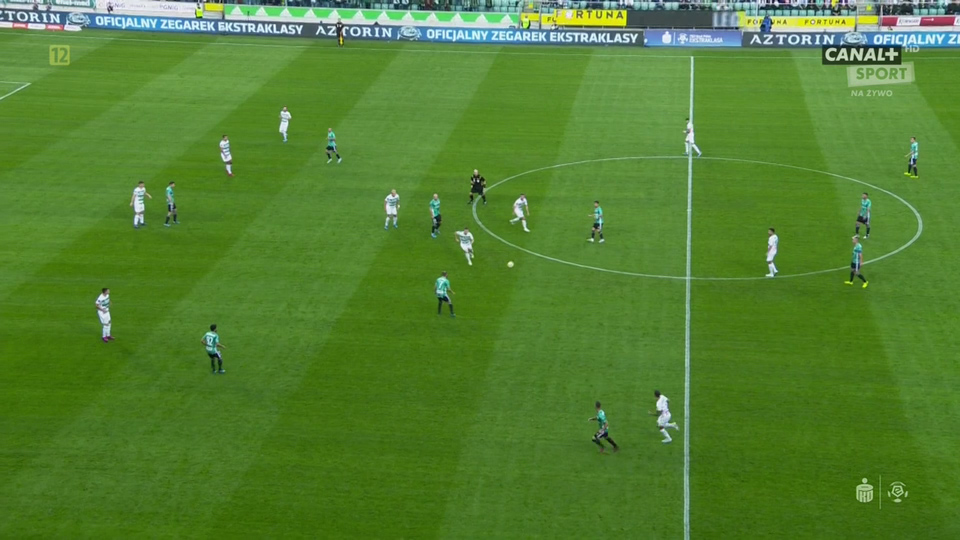Adidas: (256, 6, 267, 16)
